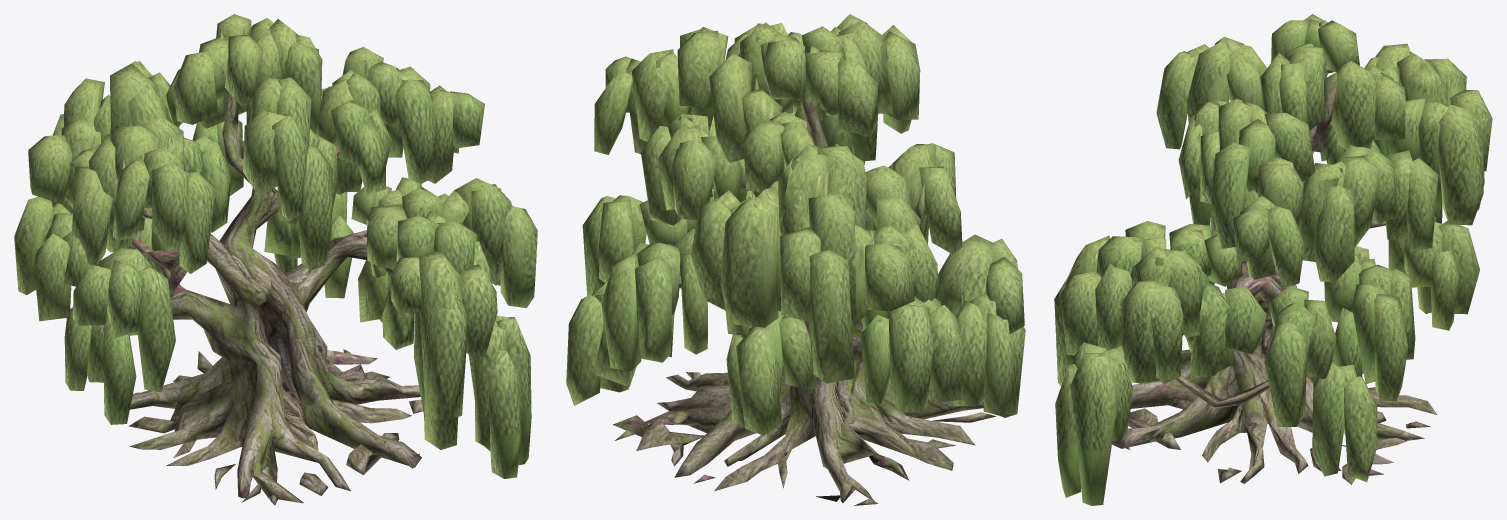
File: source.glb
The picture shows the model from 3 angles, left to right: view 1: azimuth 30°, elevation 25°; view 2: azimuth 150°, elevation 25°; view 3: azimuth 270°, elevation 25°; orthographic projection. The views are drawn at different scales.
Bounding box in the file's own units: 1 × 0.9766 × 0.9648.
1 material, 1 textured.
